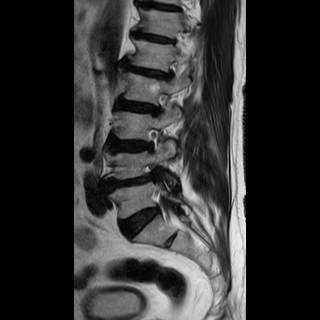RFS0: (140, 124, 165, 155), (149, 88, 174, 119)
